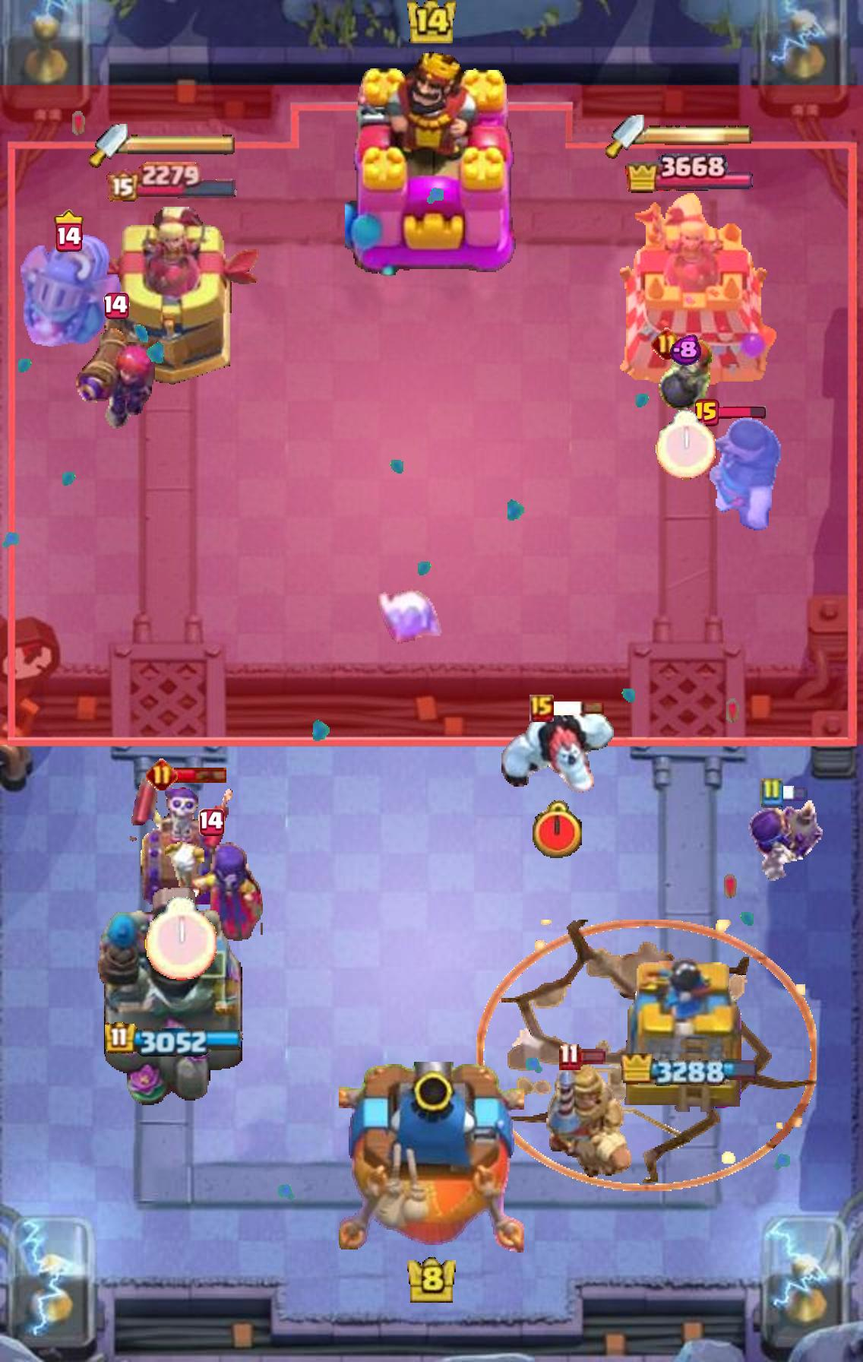bar: (174, 765, 229, 784), (550, 701, 605, 716), (716, 405, 767, 418), (577, 1048, 606, 1065)
bar-level: (54, 209, 83, 253), (651, 328, 683, 360), (146, 759, 178, 790), (104, 291, 130, 320), (198, 809, 224, 836), (529, 695, 554, 722), (695, 398, 719, 426), (558, 1042, 581, 1071)
